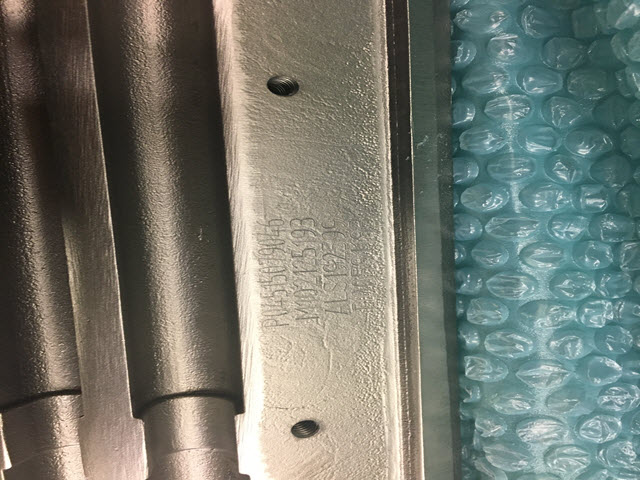character: (289, 245, 317, 261), (253, 226, 285, 238), (258, 273, 287, 286), (287, 216, 318, 228), (290, 226, 318, 239), (260, 318, 290, 330), (257, 246, 285, 258), (259, 297, 288, 308), (260, 308, 288, 319), (256, 217, 285, 227), (260, 289, 289, 299), (255, 265, 287, 274), (258, 282, 289, 290), (256, 237, 286, 245), (291, 238, 316, 246)
